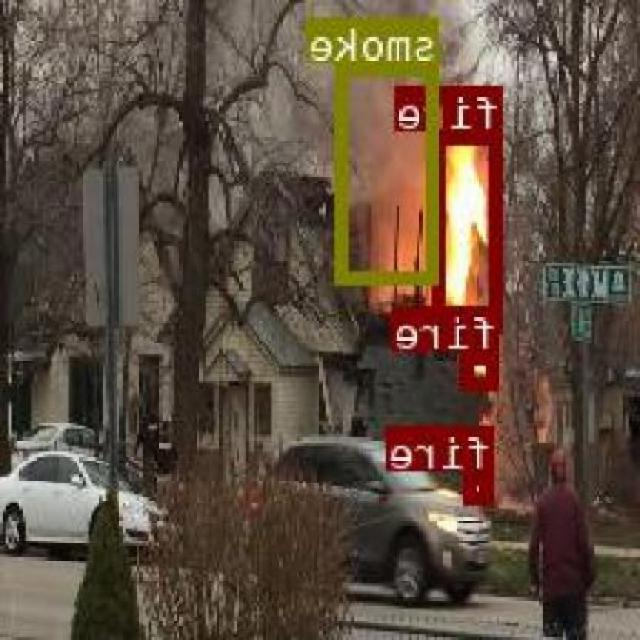Fire: (434, 129, 504, 331), (464, 351, 501, 386)
Smoke: (337, 60, 443, 282)
